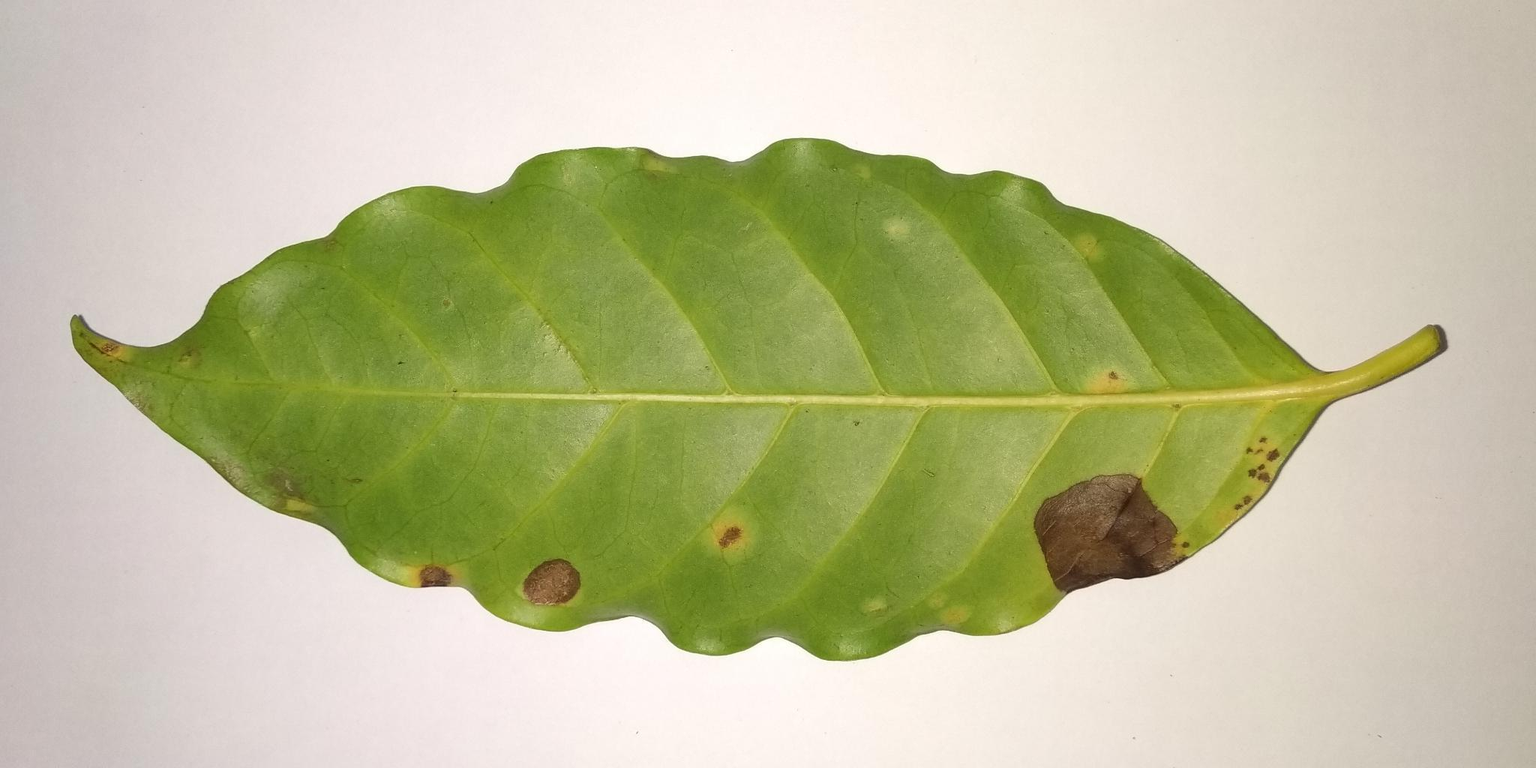Cercospora: (510, 542, 594, 621), (398, 546, 468, 606)
